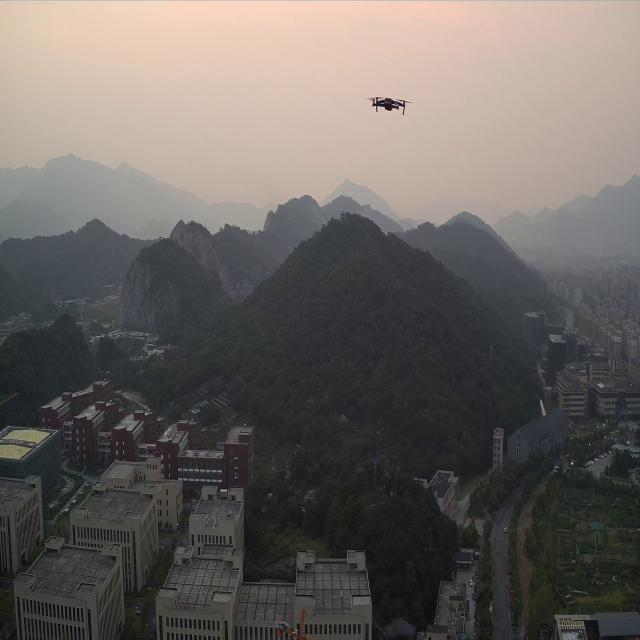UAV: (370, 97, 410, 116)
